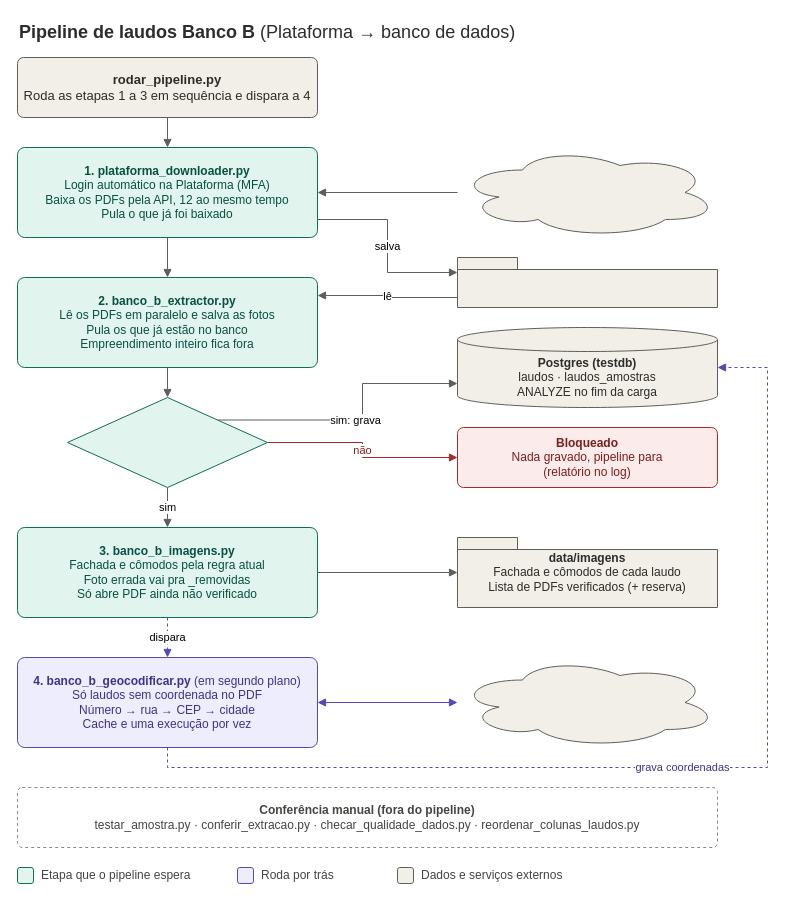
This 793x902 diagram has some shape labels left out. The shapes that lost their labels are listed below. From the top down, each one's centre as x and y in pixels, then its label:
[587,192]: Plataforma (API) Laudos do Banco B
[587,282]: data/laudos PDFs baixados
[167,442]: Lote passou na validação?
[587,702]: OpenStreetMap e CEP 1 consulta por segundo
